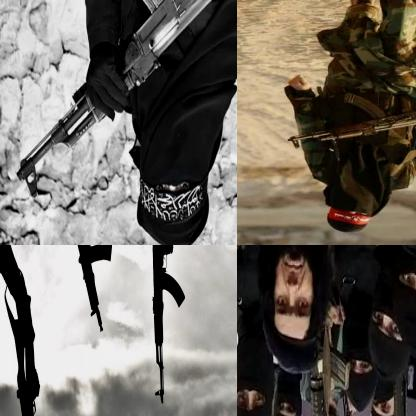rifle: (14, 0, 236, 204), (275, 90, 415, 155), (143, 245, 188, 407), (5, 299, 53, 415), (60, 245, 114, 340), (302, 341, 353, 415), (382, 361, 415, 415), (340, 397, 364, 415)
